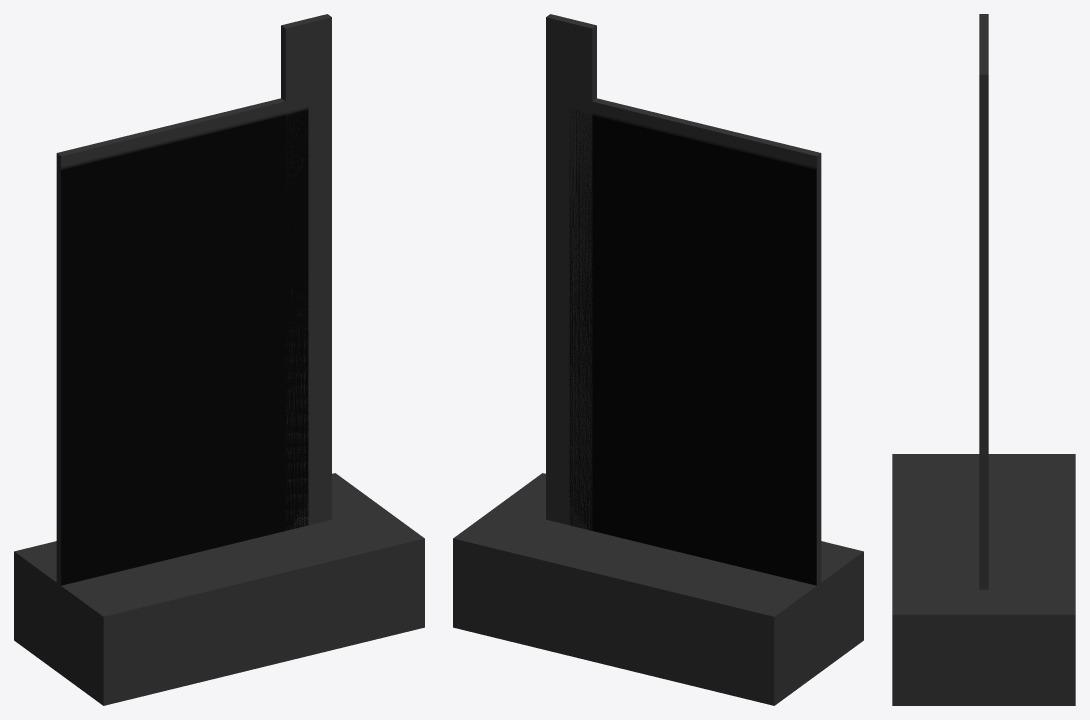
File: nyc_subway_entrance_2_fence_2.obj
3 renders of one model, left to right at view 1: azimuth 30°, elevation 25°; view 2: azimuth 150°, elevation 25°; view 3: azimuth 270°, elevation 25°, orthographic. The views are drawn at different scales.
Visible parts, largest first — view 1: cube; view 2: cube; view 3: cube.
Boxes of the visible parts, x1,y1,x2,y2 form: cube: [14, 14, 424, 705]; cube: [453, 14, 863, 705]; cube: [892, 14, 1075, 705].
Size of the model in its own units: 0.6484 by 1.14 by 0.3125.
2 materials, 2 textured.
